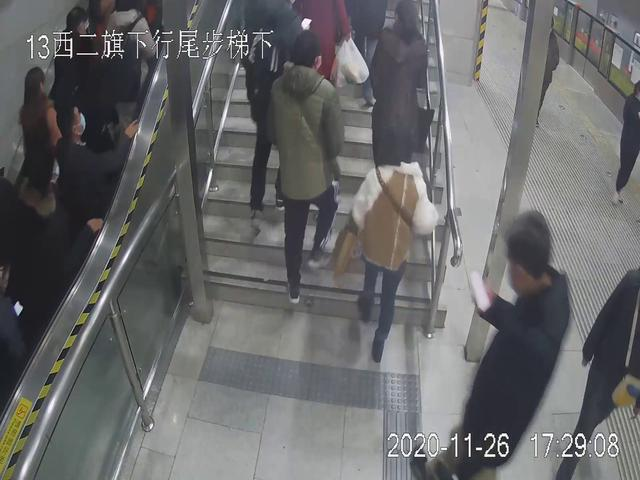person: (434, 221, 573, 480), (263, 28, 356, 305), (349, 119, 442, 362), (53, 101, 136, 236), (11, 65, 64, 181)
